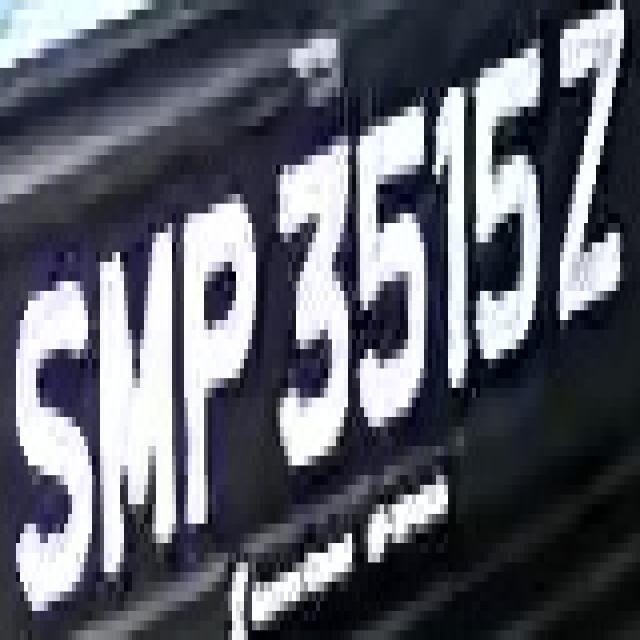1: (432, 39, 484, 426)
3: (256, 136, 360, 485)
5: (464, 39, 552, 378), (352, 78, 428, 446)
M: (84, 184, 184, 582)
P: (176, 155, 268, 553)
S: (8, 252, 96, 640)
Z: (548, 0, 632, 320)
